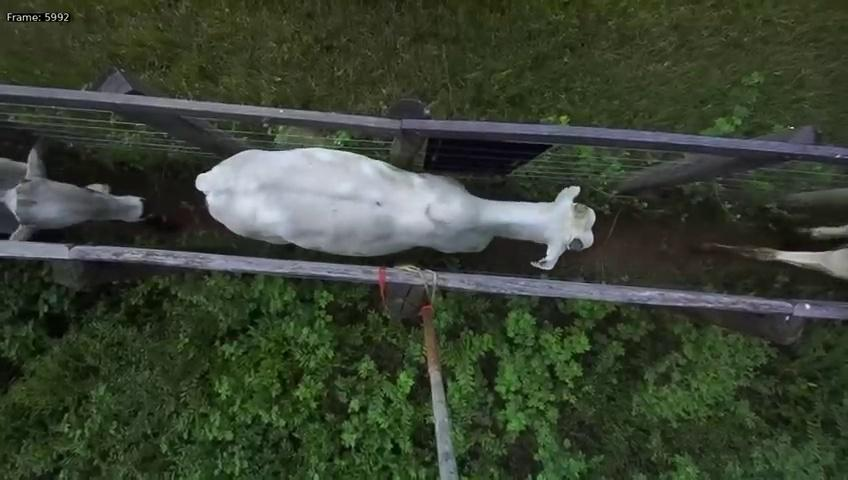cattle: (190, 122, 597, 268)
